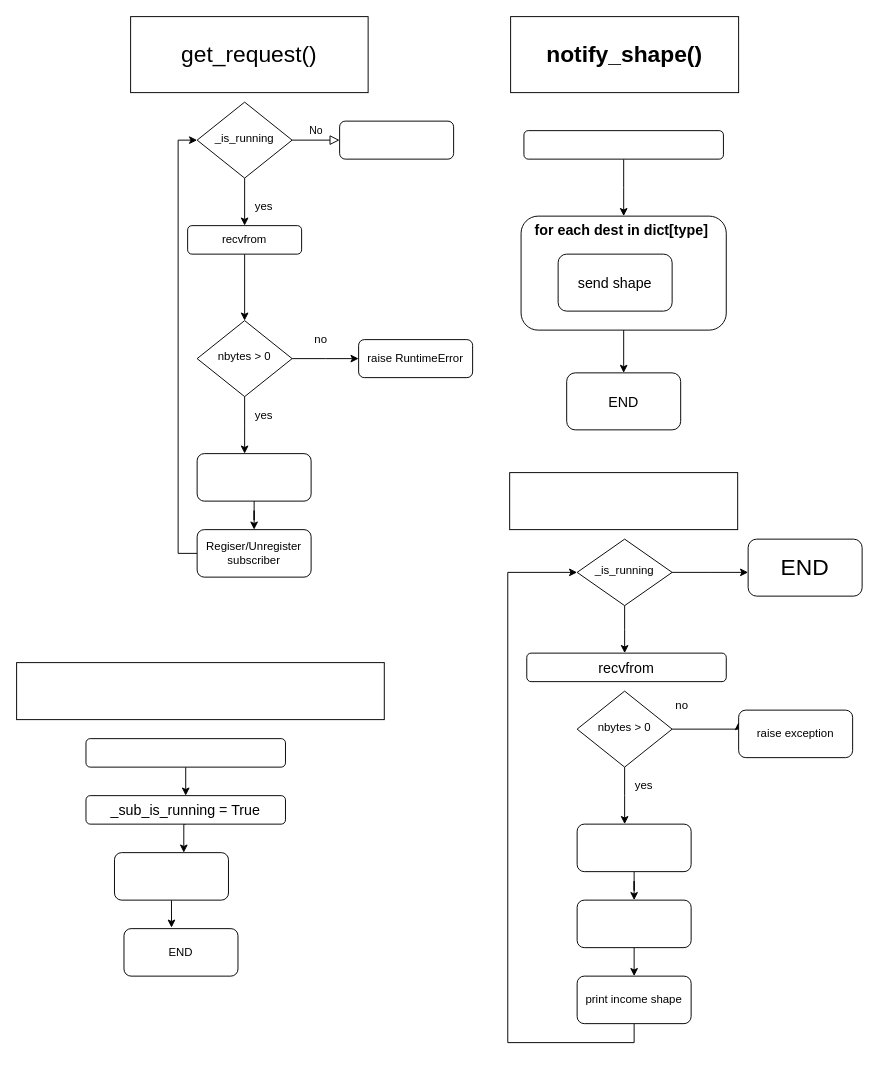
The diagram is 879 pixels wide and 1067 high, and some of its shapes have lost their labels. Here are the shapes that lost their labels. From the top down, the centre of each, then its label:
At (x=396, y=139): "Finish event loop".
At (x=623, y=144): "serialize params to message".
At (x=253, y=477): "parse msg to json".
At (x=623, y=501): "subscribe_run()".
At (x=200, y=691): "subscribe(publisher_port_num)".
At (x=185, y=752): "configure socket".
At (x=633, y=847): "parse shape to json".
At (x=171, y=876): "attach Thread(subscribe_run)".
At (x=633, y=923): "deserialize to shape".
